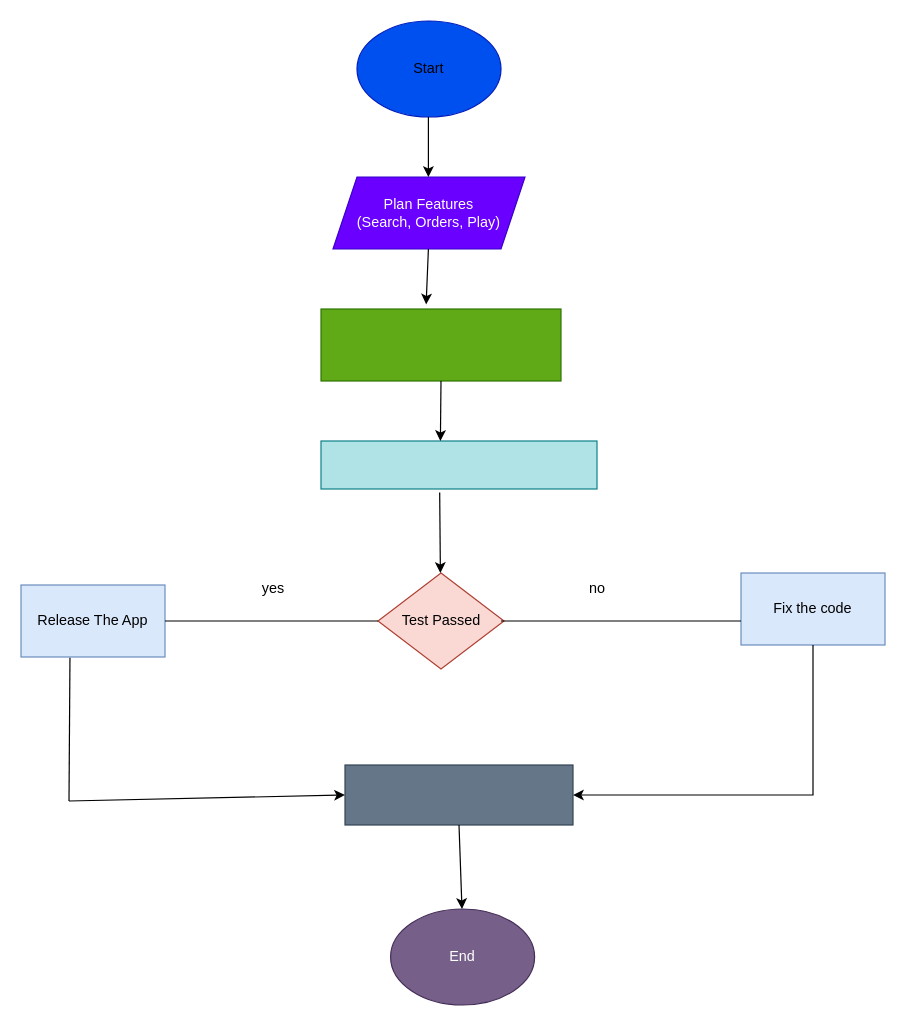
This 906x1026 diagram has some shape labels left out. The shapes that lost their labels are listed below. From the top down, each one's centre as x and y in pixels, then its label:
At point (440, 344): "Code (serivices:memu, card,orders,Delivery)".
At point (458, 464): "Bulid Moblie app".
At point (458, 794): "Deploy the app".
